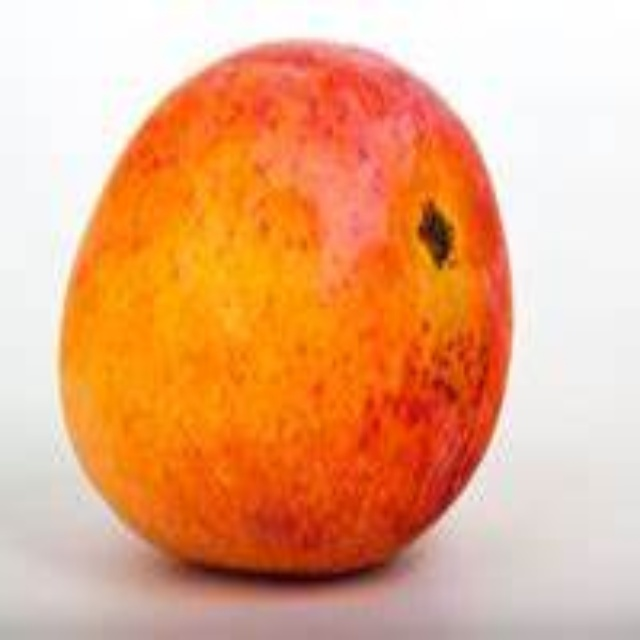mango: (61, 44, 504, 575)
